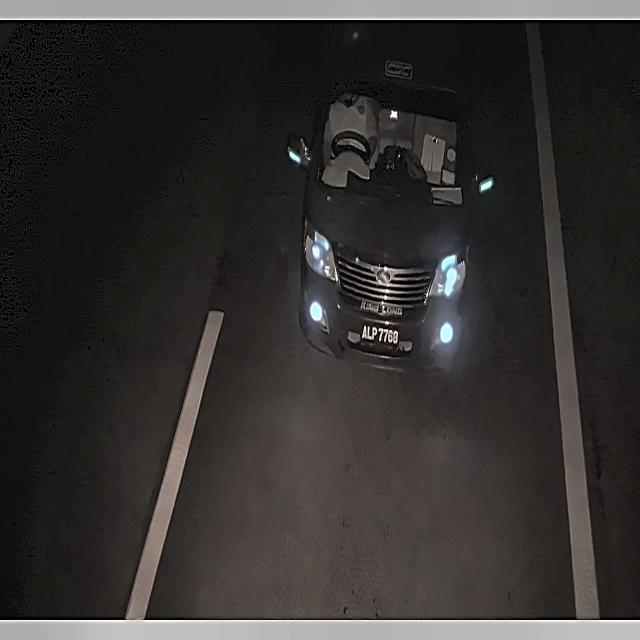car: (359, 318, 403, 357)
